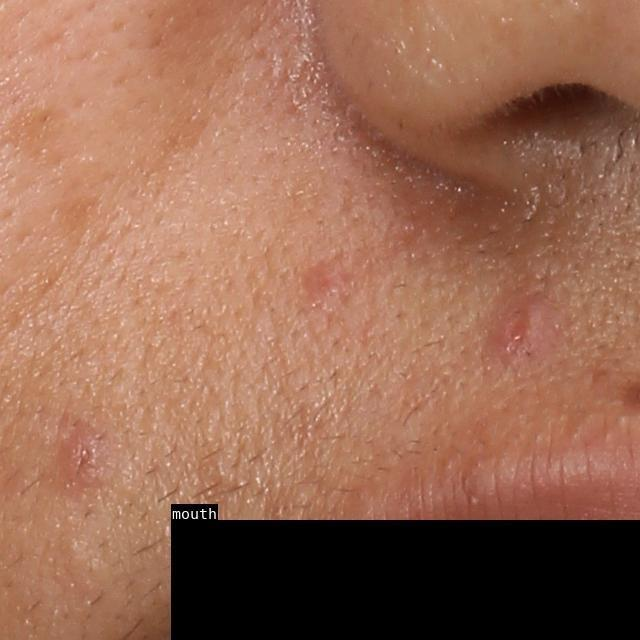papule: (487, 296, 560, 360), (53, 428, 120, 487)
